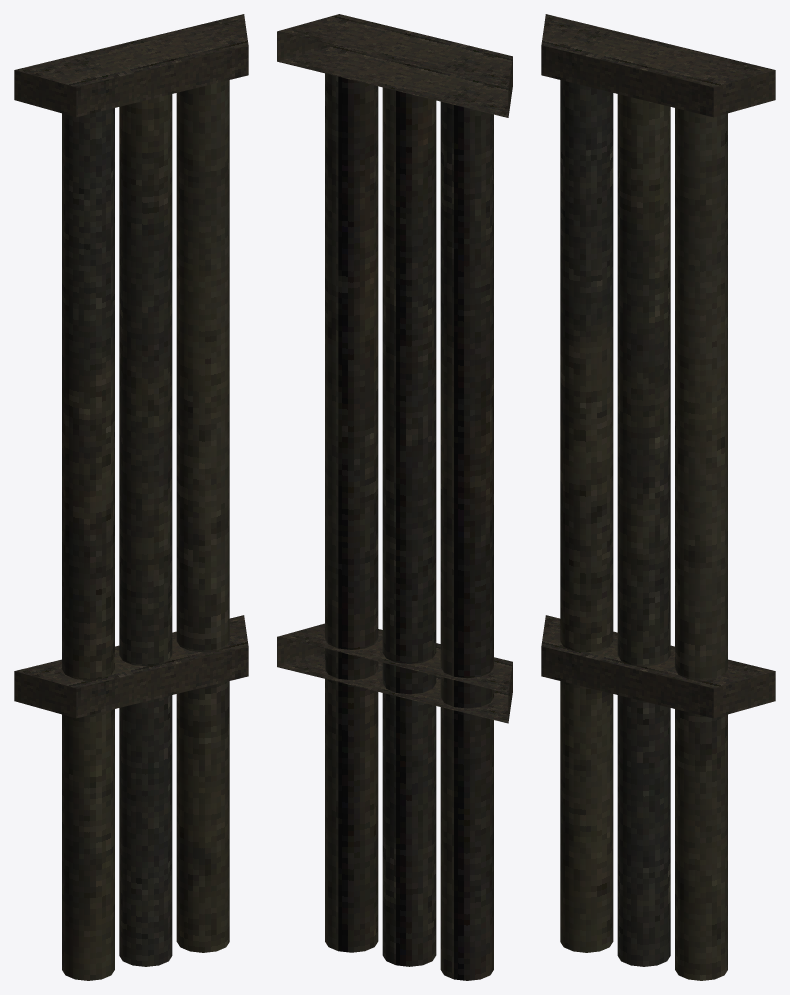
File: pipes_hr_1_vertical_end_2.glb
3 views of the same model, side by side, from view 1: azimuth 30°, elevation 25°; view 2: azimuth 150°, elevation 25°; view 3: azimuth 330°, elevation 25° (orthographic).
Parts seen in each view (by area): view 1: pipes_hr_1_vertical_end_2; view 2: pipes_hr_1_vertical_end_2; view 3: pipes_hr_1_vertical_end_2.
Boxes of the visible parts, <box> form: pipes_hr_1_vertical_end_2: <box>14,14,248,980</box>; pipes_hr_1_vertical_end_2: <box>277,14,512,980</box>; pipes_hr_1_vertical_end_2: <box>541,14,775,980</box>.
Size of the model in its own units: 0.4 by 1.5 by 0.1.
1 material, 1 textured.
